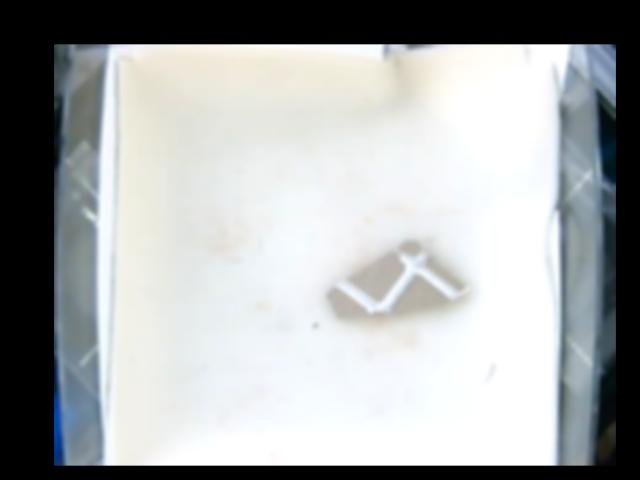China: (330, 238, 470, 318)
